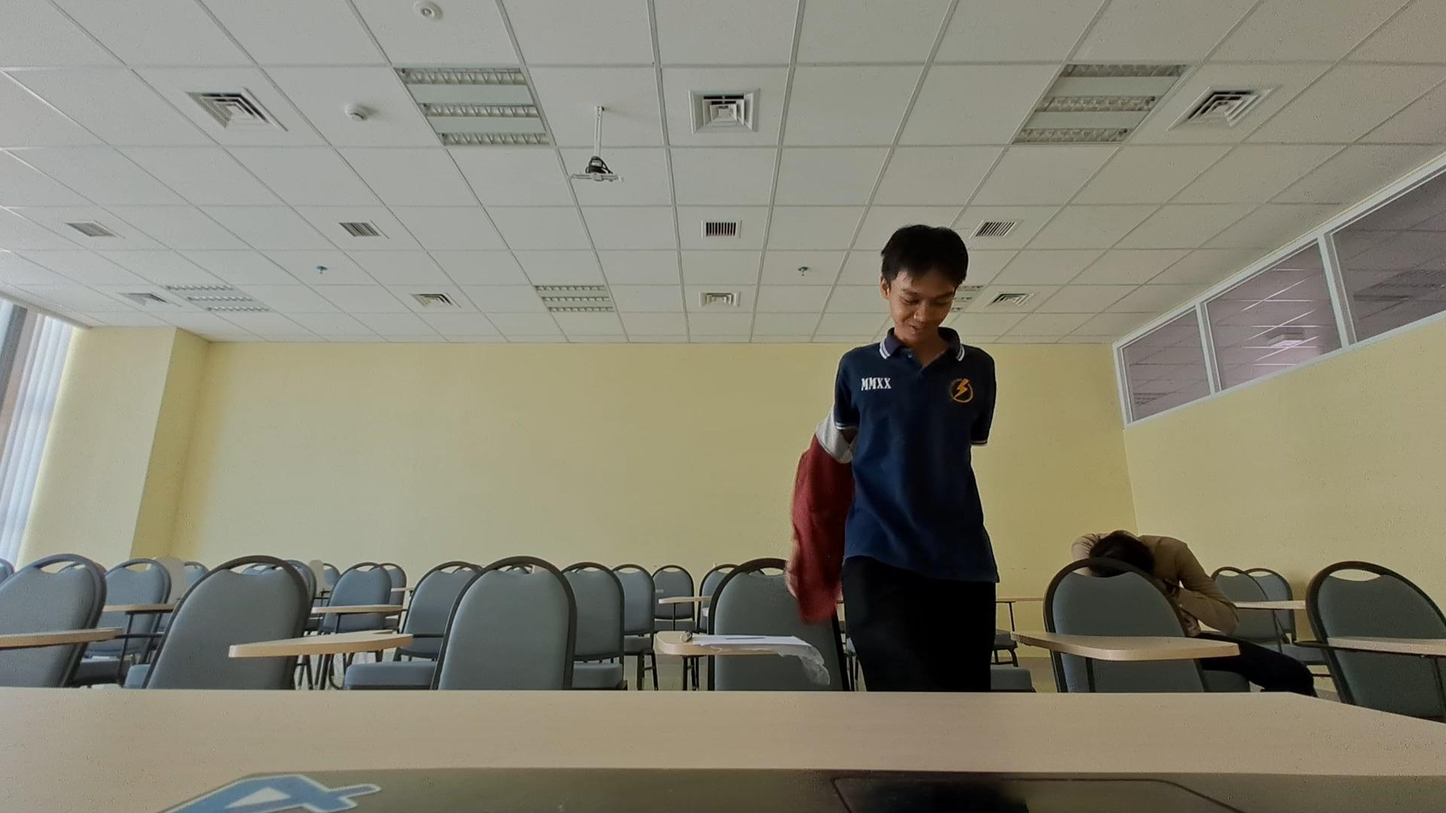sleep: (1066, 523, 1241, 644)
